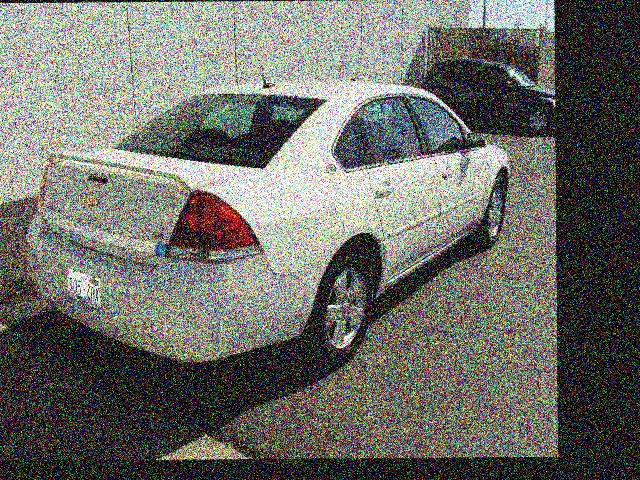car: (14, 55, 516, 377), (422, 25, 556, 134)
